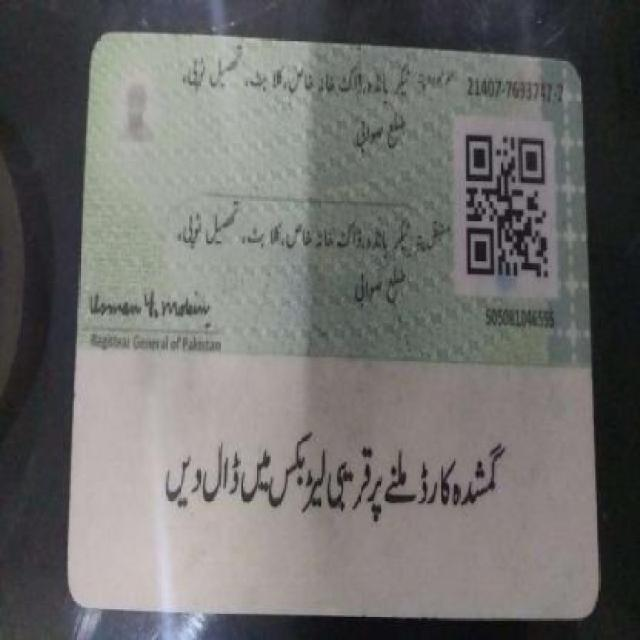Back: (69, 28, 606, 615)
